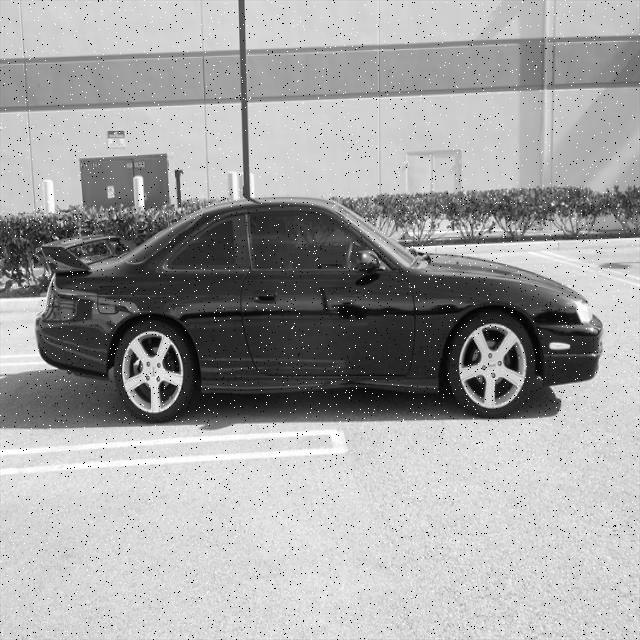Sedan: (34, 198, 602, 423)
